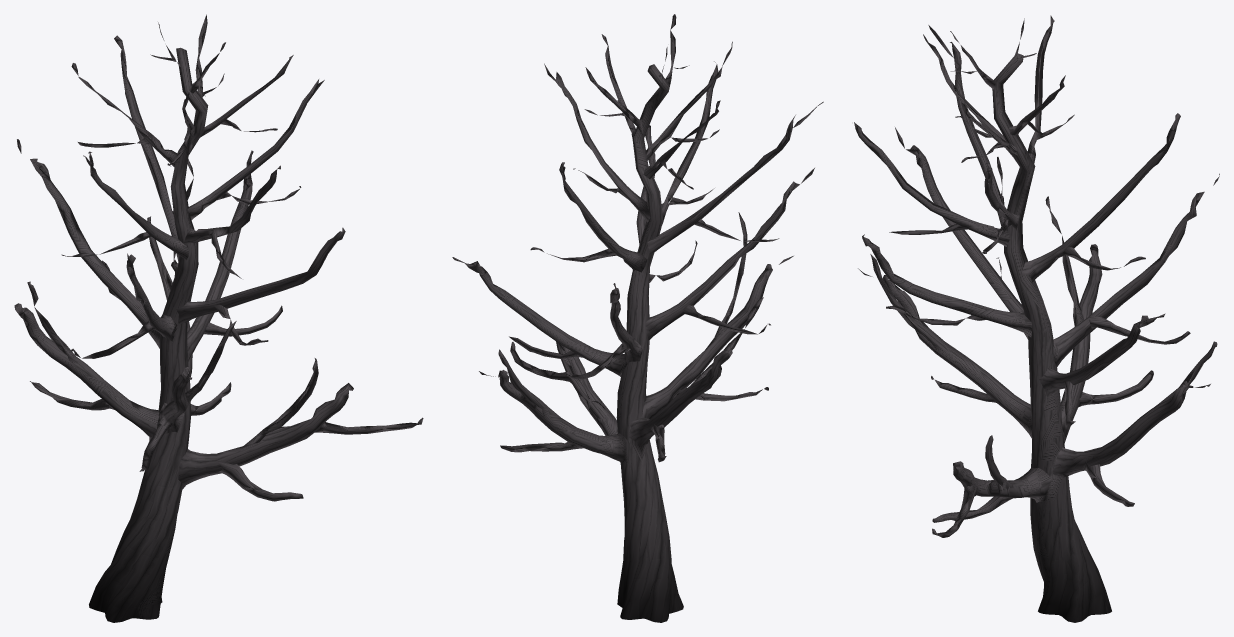
Rendered from DeadTree_2.glb.
The picture shows the model from 3 angles, left to right: view 1: azimuth 30°, elevation 25°; view 2: azimuth 150°, elevation 25°; view 3: azimuth 270°, elevation 25°; orthographic projection. The views are drawn at different scales.
Parts seen in each view (by area): view 1: DeadTree_2; view 2: DeadTree_2; view 3: DeadTree_2.
Part boxes in pixels (left/top/right/bottom): DeadTree_2: left=14, top=14, right=423, bottom=622; DeadTree_2: left=452, top=14, right=823, bottom=622; DeadTree_2: left=854, top=15, right=1219, bottom=622.
Bounding box in the file's own units: 6.71 × 11.34 × 6.36.
1 material, 1 textured.
